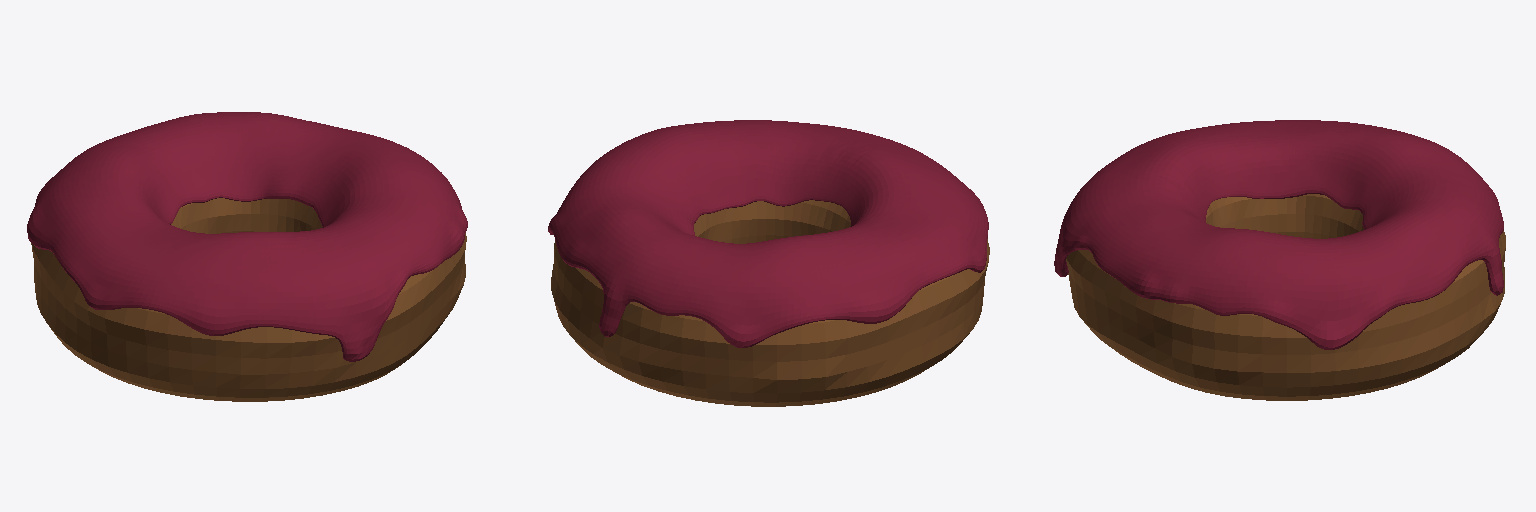
The model's file is donut.obj.
3 views of the same model, side by side, from view 1: azimuth 30°, elevation 25°; view 2: azimuth 150°, elevation 25°; view 3: azimuth 270°, elevation 25° (orthographic).
Parts seen in each view (by area): view 1: Donut_Torus.001; view 2: Donut_Torus.001; view 3: Donut_Torus.001.
Boxes of the visible parts, x1=… form: Donut_Torus.001: x1=27, y1=112, x2=467, y2=401; Donut_Torus.001: x1=548, y1=120, x2=989, y2=406; Donut_Torus.001: x1=1054, y1=120, x2=1505, y2=400.
Size of the model in its own units: 0.1468 by 0.0569 by 0.1501.